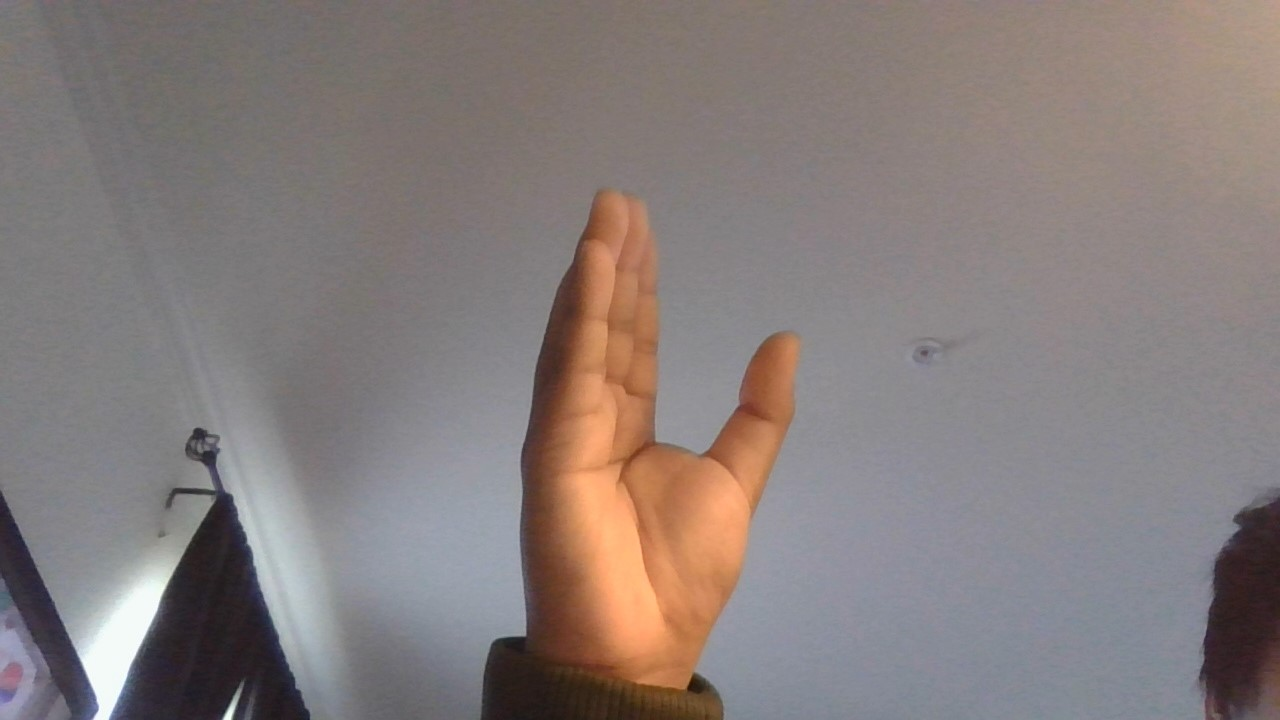j: (460, 159, 830, 719)
